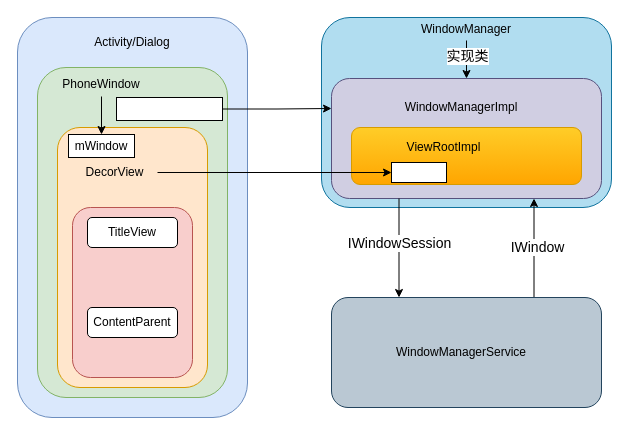
The diagram is 629 pixels wide and 435 high, and some of its shapes have lost their labels. Each missing label, with the centre of its shape:
"mView" goes at point (418, 172).
"mWindowManager" goes at point (169, 108).
